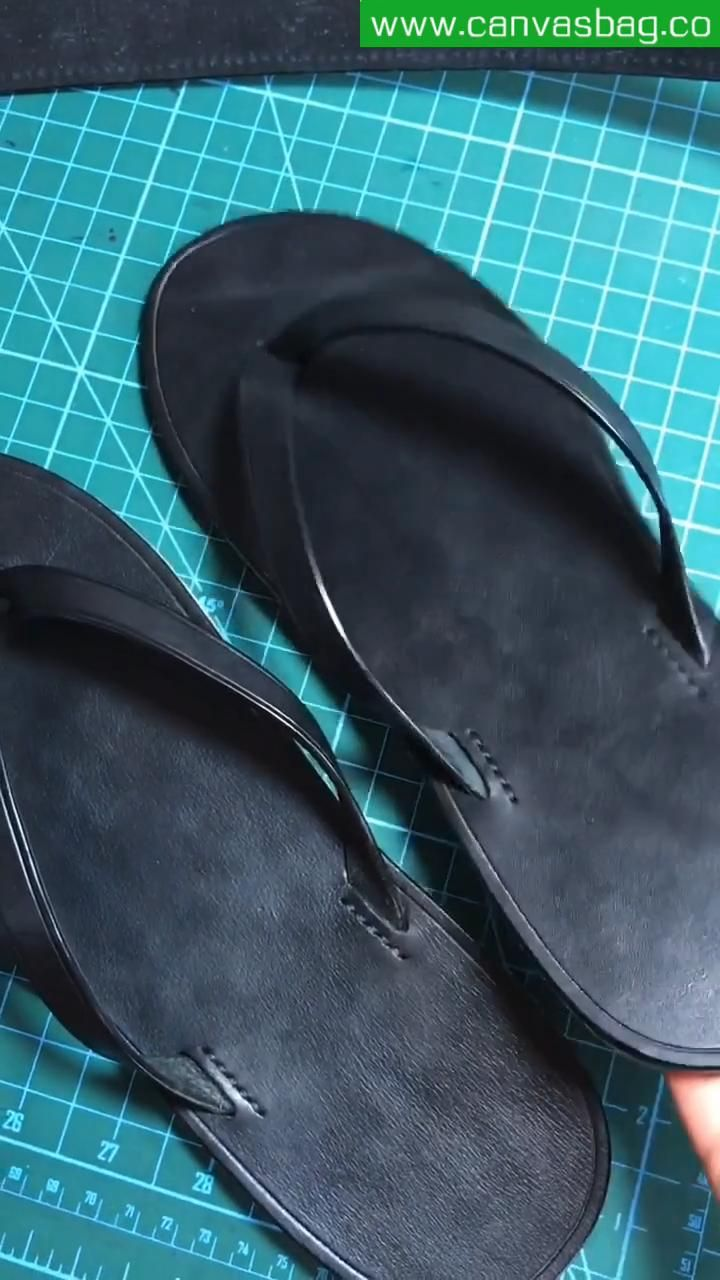cuero: (1, 202, 720, 1280)
